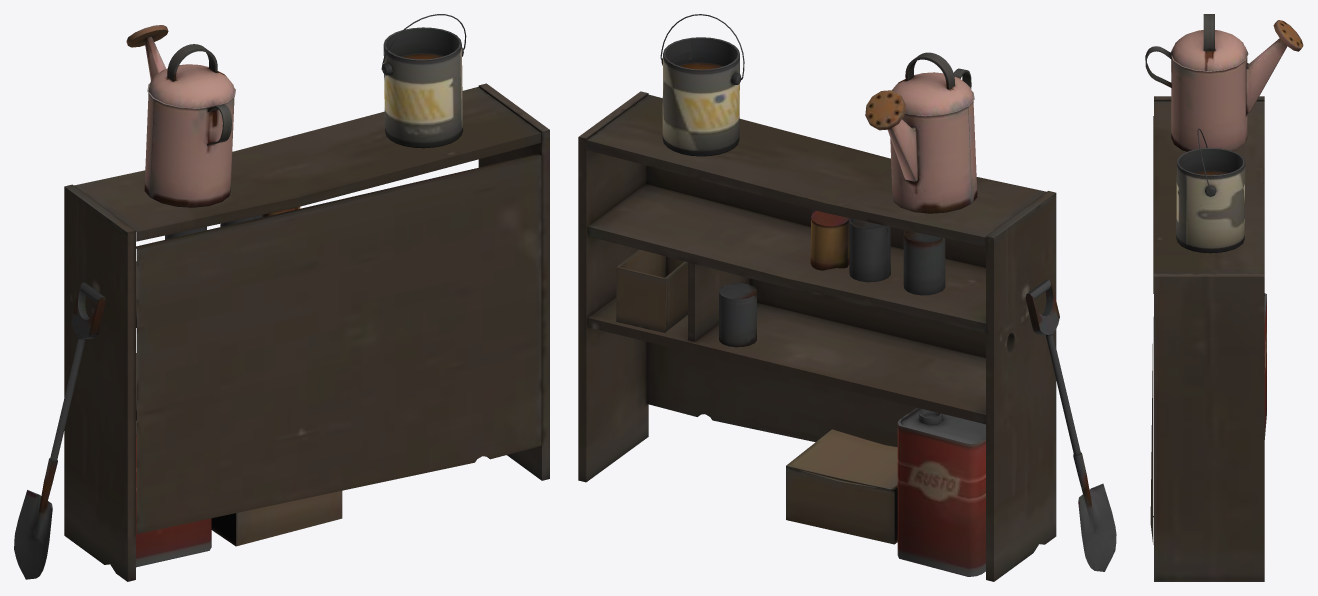
3 views of the same model, side by side, from view 1: azimuth 30°, elevation 25°; view 2: azimuth 150°, elevation 25°; view 3: azimuth 270°, elevation 25° (orthographic). The views are drawn at different scales.
Parts seen in each view (by area): view 1: body0_model0_lod0_mesh0; view 2: body0_model0_lod0_mesh0; view 3: body0_model0_lod0_mesh0.
Part boxes in pixels (x1,y1,x2,y2): body0_model0_lod0_mesh0: (14,14,549,581); body0_model0_lod0_mesh0: (578,14,1116,581); body0_model0_lod0_mesh0: (1145,14,1303,581).
Size of the model in its own units: 85.57 by 80.2 by 26.91.
1 material, 1 textured.
